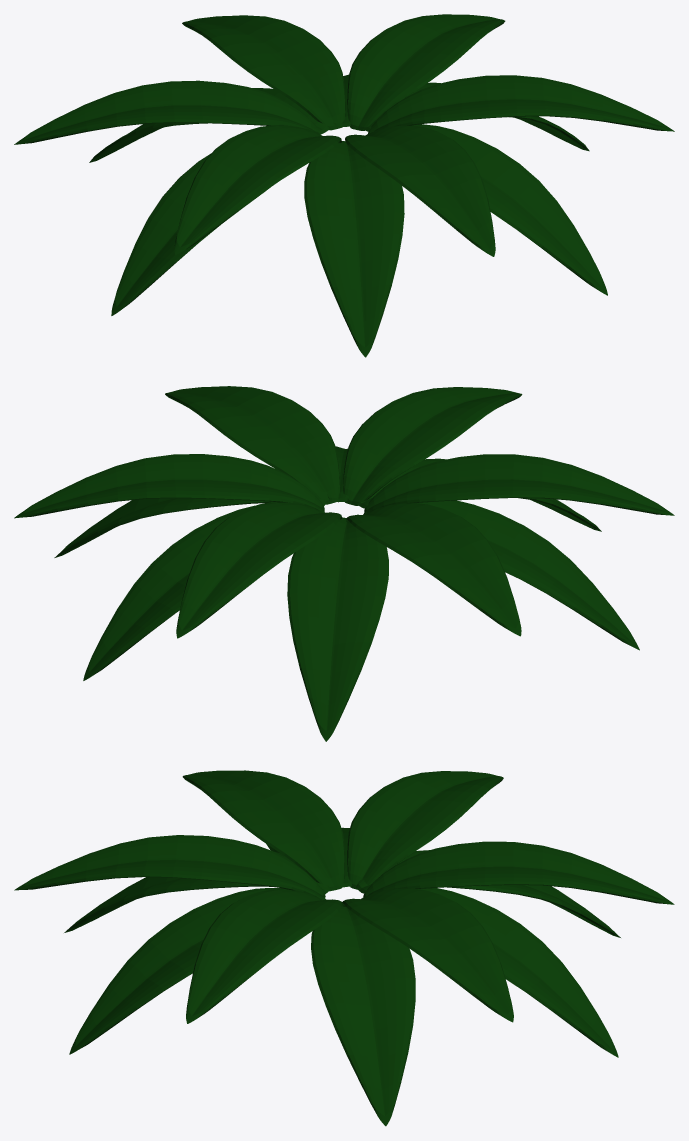
Rendered from Hojas_Palmera_1_H.obj.
The picture shows the model from 3 angles, top to bottom: view 1: azimuth 30°, elevation 25°; view 2: azimuth 150°, elevation 25°; view 3: azimuth 270°, elevation 25°; orthographic projection.
Parts seen in each view (by area): view 1: Plane.002_Plane.003; view 2: Plane.002_Plane.003; view 3: Plane.002_Plane.003.
Boxes of the visible parts, x1,y1,x2,y2 form: Plane.002_Plane.003: (14,14,674,357); Plane.002_Plane.003: (14,386,674,741); Plane.002_Plane.003: (14,770,674,1126).
Size of the model in its own units: 66.86 by 16.75 by 71.29.
